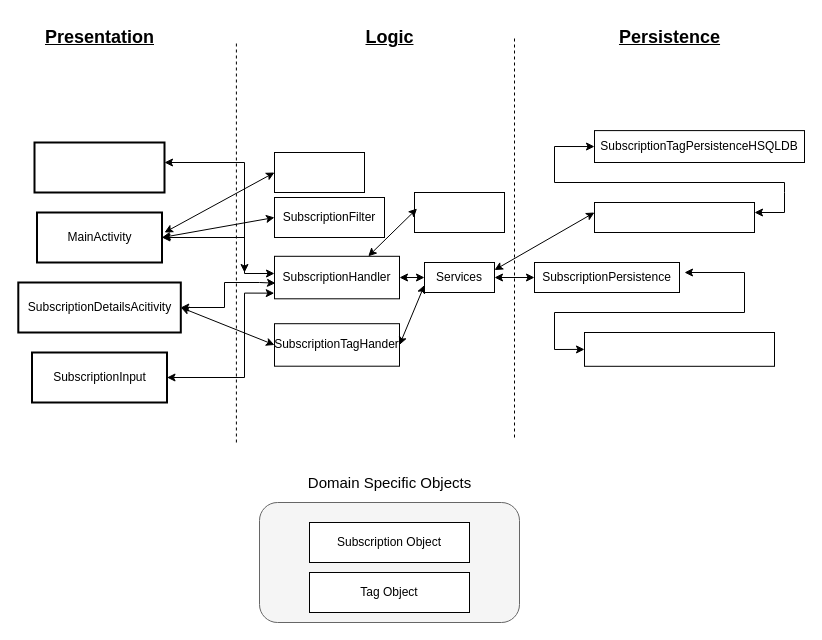
This 822x640 diagram has some shape labels left out. The centre of each missing label's shape, as x and y in pixels:
AddSubscriptionActivity: [99,167]
Comparators: [319,172]
Frequencies: [459,212]
SubscriptionPersistenceHSQLDB: [679,349]
SubscriptionTagPersistence: [674,217]
